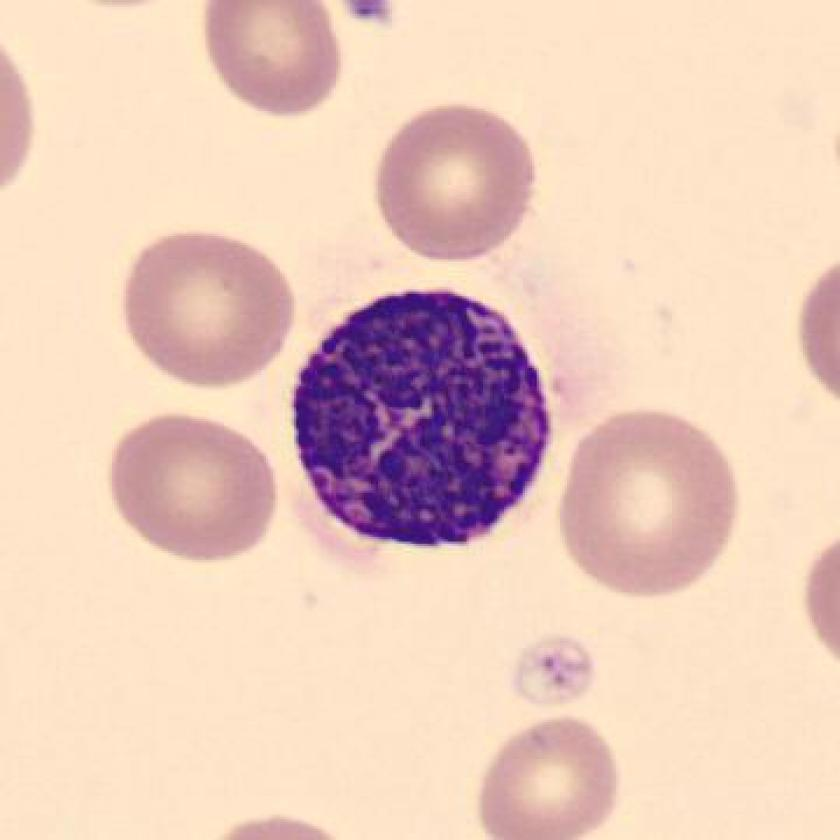basophil: (281, 270, 580, 573)
